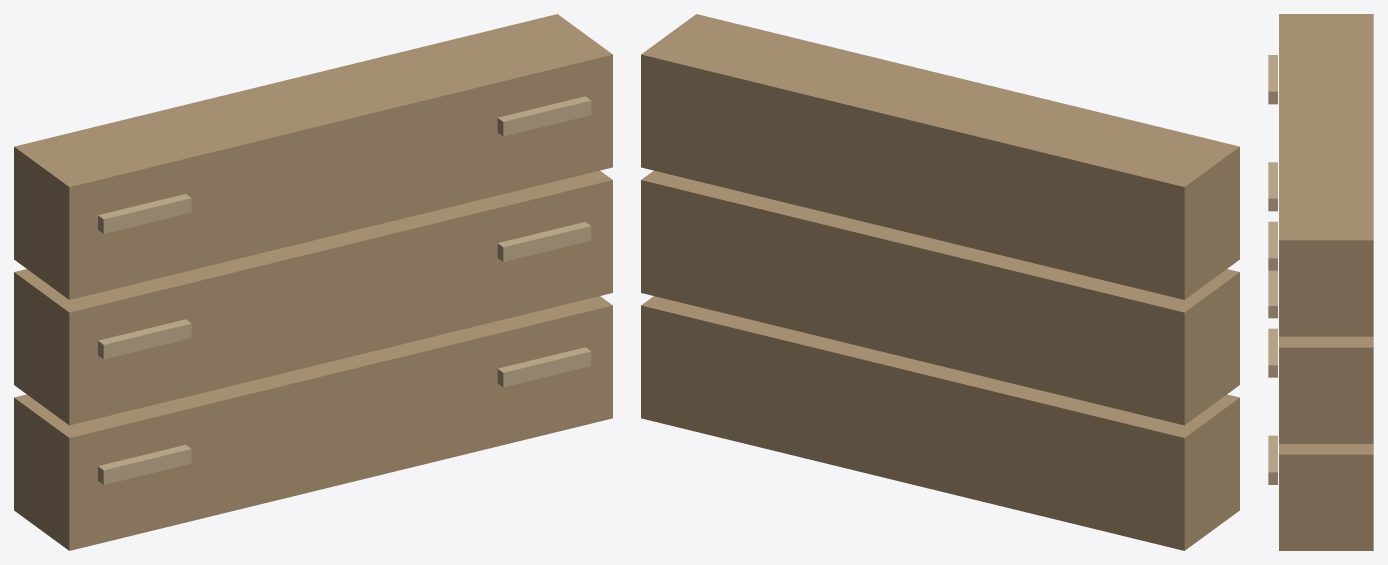
Rendered from material_plank.glb.
3 renders of one model, left to right at view 1: azimuth 30°, elevation 25°; view 2: azimuth 150°, elevation 25°; view 3: azimuth 270°, elevation 25°, orthographic. The views are drawn at different scales.
Parts seen in each view (by area): view 1: material_plank; view 2: material_plank; view 3: material_plank.
Part boxes in pixels (box(x1,y1,x2,y2)): material_plank: box(14, 14, 612, 550); material_plank: box(641, 14, 1239, 550); material_plank: box(1268, 14, 1373, 550).
Bounding box in the file's own units: 1.36 × 0.87 × 0.2675.
